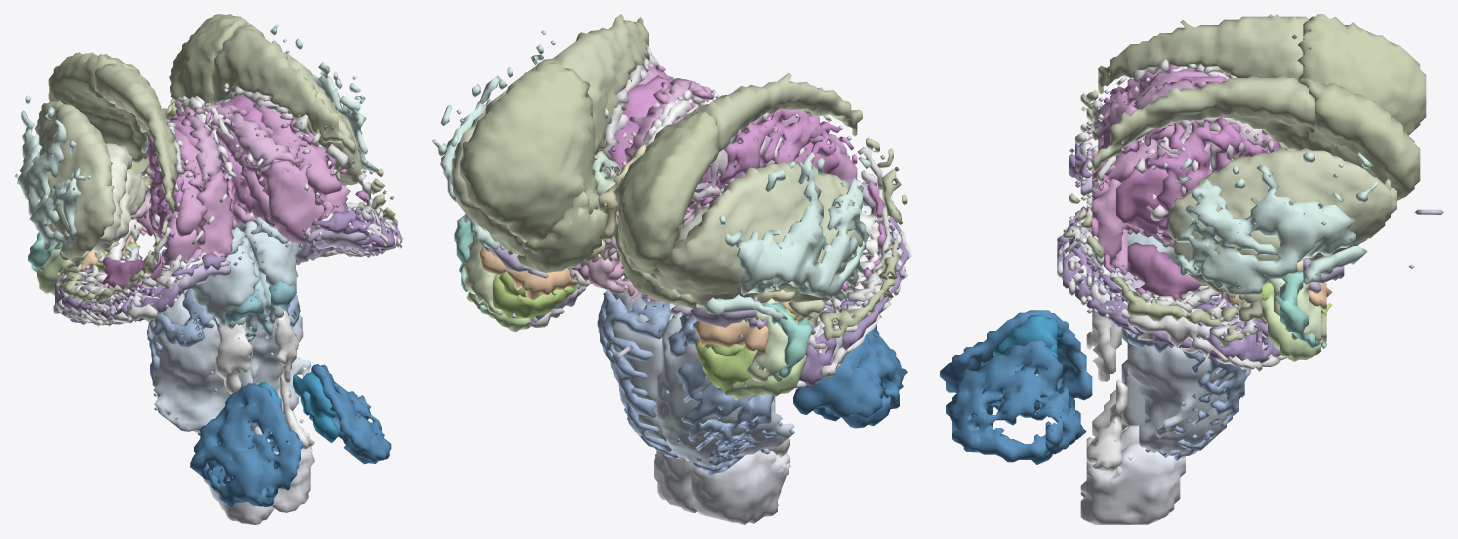
The model's file is nextbrain.glb.
3 views of the same model, side by side, from view 1: azimuth 30°, elevation 25°; view 2: azimuth 150°, elevation 25°; view 3: azimuth 270°, elevation 25° (orthographic). The views are drawn at different scales.
Visible parts, largest first — view 1: nextbrain:left:721, nextbrain:right:10118, nextbrain:left:79, nextbrain:left:580, nextbrain:left:102, nextbrain:left:48, nextbrain:left:118, nextbrain:right:10048, nextbrain:right:10721, nextbrain:right:10508, nextbrain:left:384, nextbrain:left:354 (+47 smaller); view 2: nextbrain:right:10048, nextbrain:left:79, nextbrain:left:102, nextbrain:left:48, nextbrain:left:721, nextbrain:left:414, nextbrain:right:10118, nextbrain:left:580, nextbrain:left:118, nextbrain:left:254, nextbrain:left:662, nextbrain:right:10414 (+31 smaller); view 3: nextbrain:right:10102, nextbrain:right:10079, nextbrain:right:10721, nextbrain:left:118, nextbrain:right:10118, nextbrain:left:48, nextbrain:right:10048, nextbrain:right:10580, nextbrain:right:10662, nextbrain:right:10254, nextbrain:left:721, nextbrain:right:10354 (+23 smaller).
Boxes of the visible parts, x1,y1,x2,y2 form: nextbrain:left:721: (190,383,302,507); nextbrain:right:10118: (211,24,393,199); nextbrain:left:79: (17,100,115,259); nextbrain:left:580: (149,289,256,432); nextbrain:left:102: (14,95,91,252); nextbrain:left:48: (48,52,146,163); nextbrain:left:118: (95,62,178,255); nextbrain:right:10048: (169,14,250,105); nextbrain:right:10721: (309,364,391,464); nextbrain:right:10508: (259,160,323,243); nextbrain:left:384: (191,227,261,328); nextbrain:left:354: (53,193,227,326); nextbrain:right:10048: (460,62,598,242); nextbrain:left:79: (653,160,862,307); nextbrain:left:102: (705,147,876,320); nextbrain:left:48: (616,108,719,280); nextbrain:left:721: (793,325,907,428); nextbrain:left:414: (664,312,794,477); nextbrain:right:10118: (529,14,651,154); nextbrain:left:580: (656,313,794,470); nextbrain:left:118: (691,73,899,171); nextbrain:left:254: (684,109,885,290); nextbrain:left:662: (691,450,790,524); nextbrain:right:10414: (597,291,678,458); nextbrain:right:10102: (1163,147,1378,294); nextbrain:right:10079: (1168,144,1396,295); nextbrain:right:10721: (946,339,1086,464); nextbrain:left:118: (1080,14,1309,111); nextbrain:right:10118: (1069,75,1314,242); nextbrain:left:48: (1292,14,1426,135); nextbrain:right:10048: (1298,78,1420,200); nextbrain:right:10580: (1127,291,1232,458); nextbrain:right:10662: (1080,425,1185,524); nextbrain:right:10254: (1091,118,1267,300); nextbrain:left:721: (940,310,1092,414); nextbrain:right:10354: (1057,161,1286,371).
Size of the model in its own units: 0.069 by 0.088 by 0.086.
